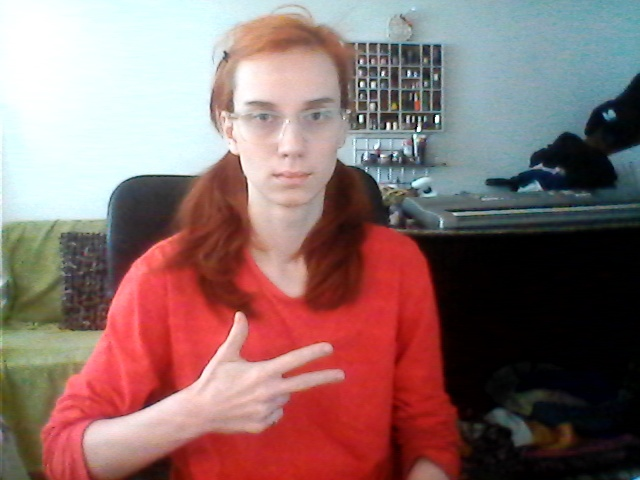tri: (199, 308, 350, 439)
